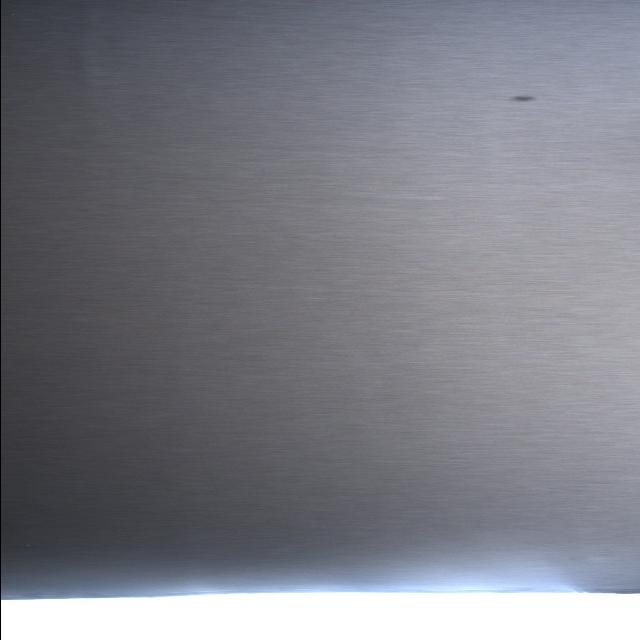crease: (191, 14, 316, 30)
whiteDefect: (357, 194, 459, 205)
